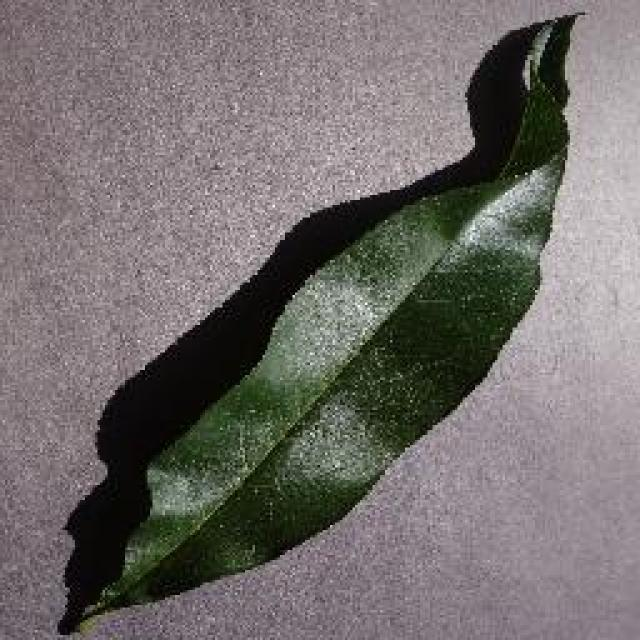Pea_healthy: (130, 66, 571, 564)
